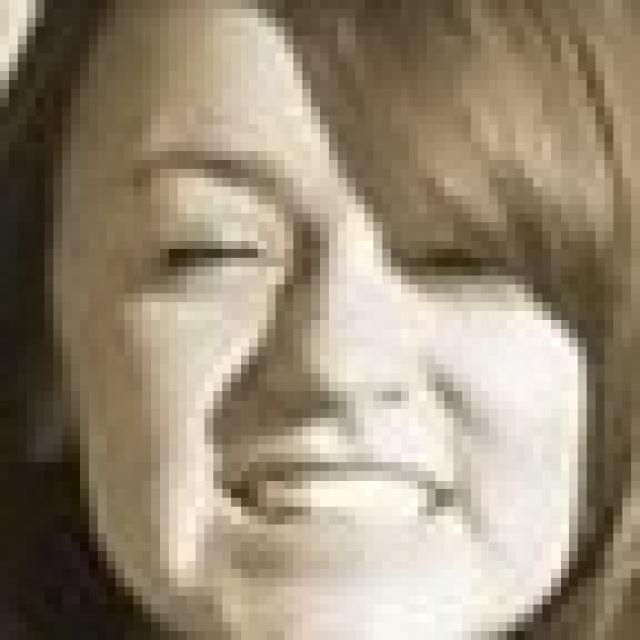close: (124, 136, 312, 302)
